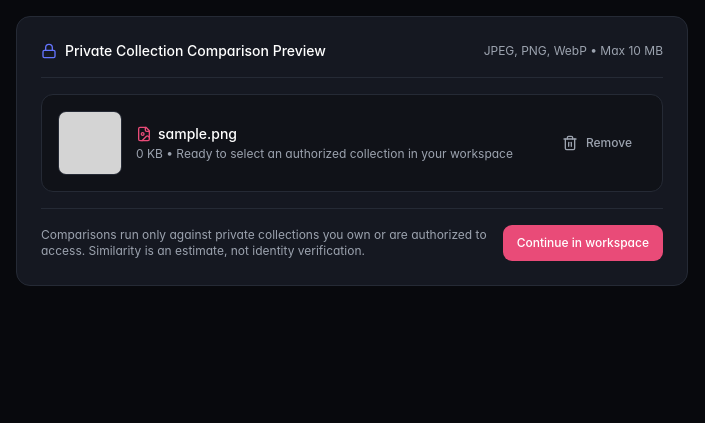
Test case: Marketing Components › renders UploadPreview image preview on valid image and allows removal
Earlier steps of the test are not shown.
Expected: the text "sample.png" is shown, [158, 124, 237, 144]
Click the button "Remove": (597, 143) [548, 125, 646, 161]
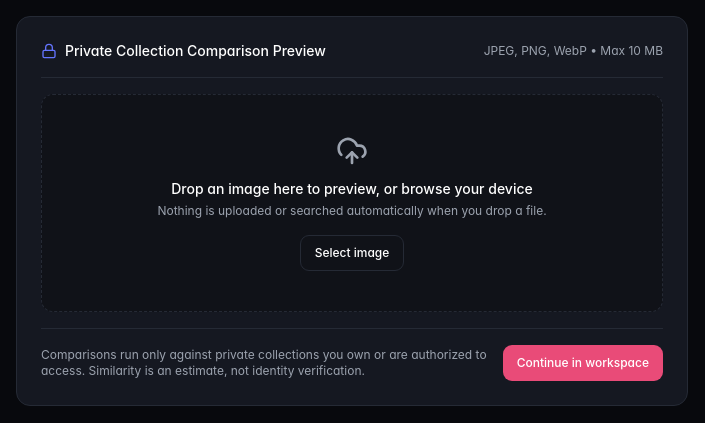
Result: the text "sample.png" is gone
